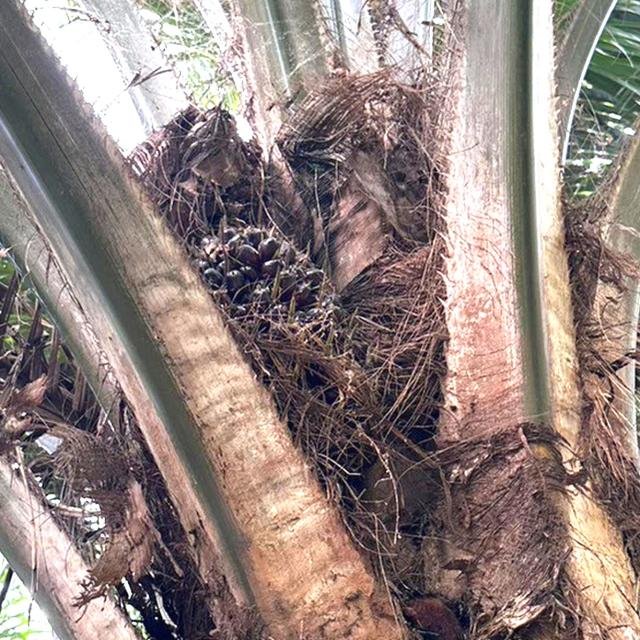almost: (192, 218, 342, 387)
